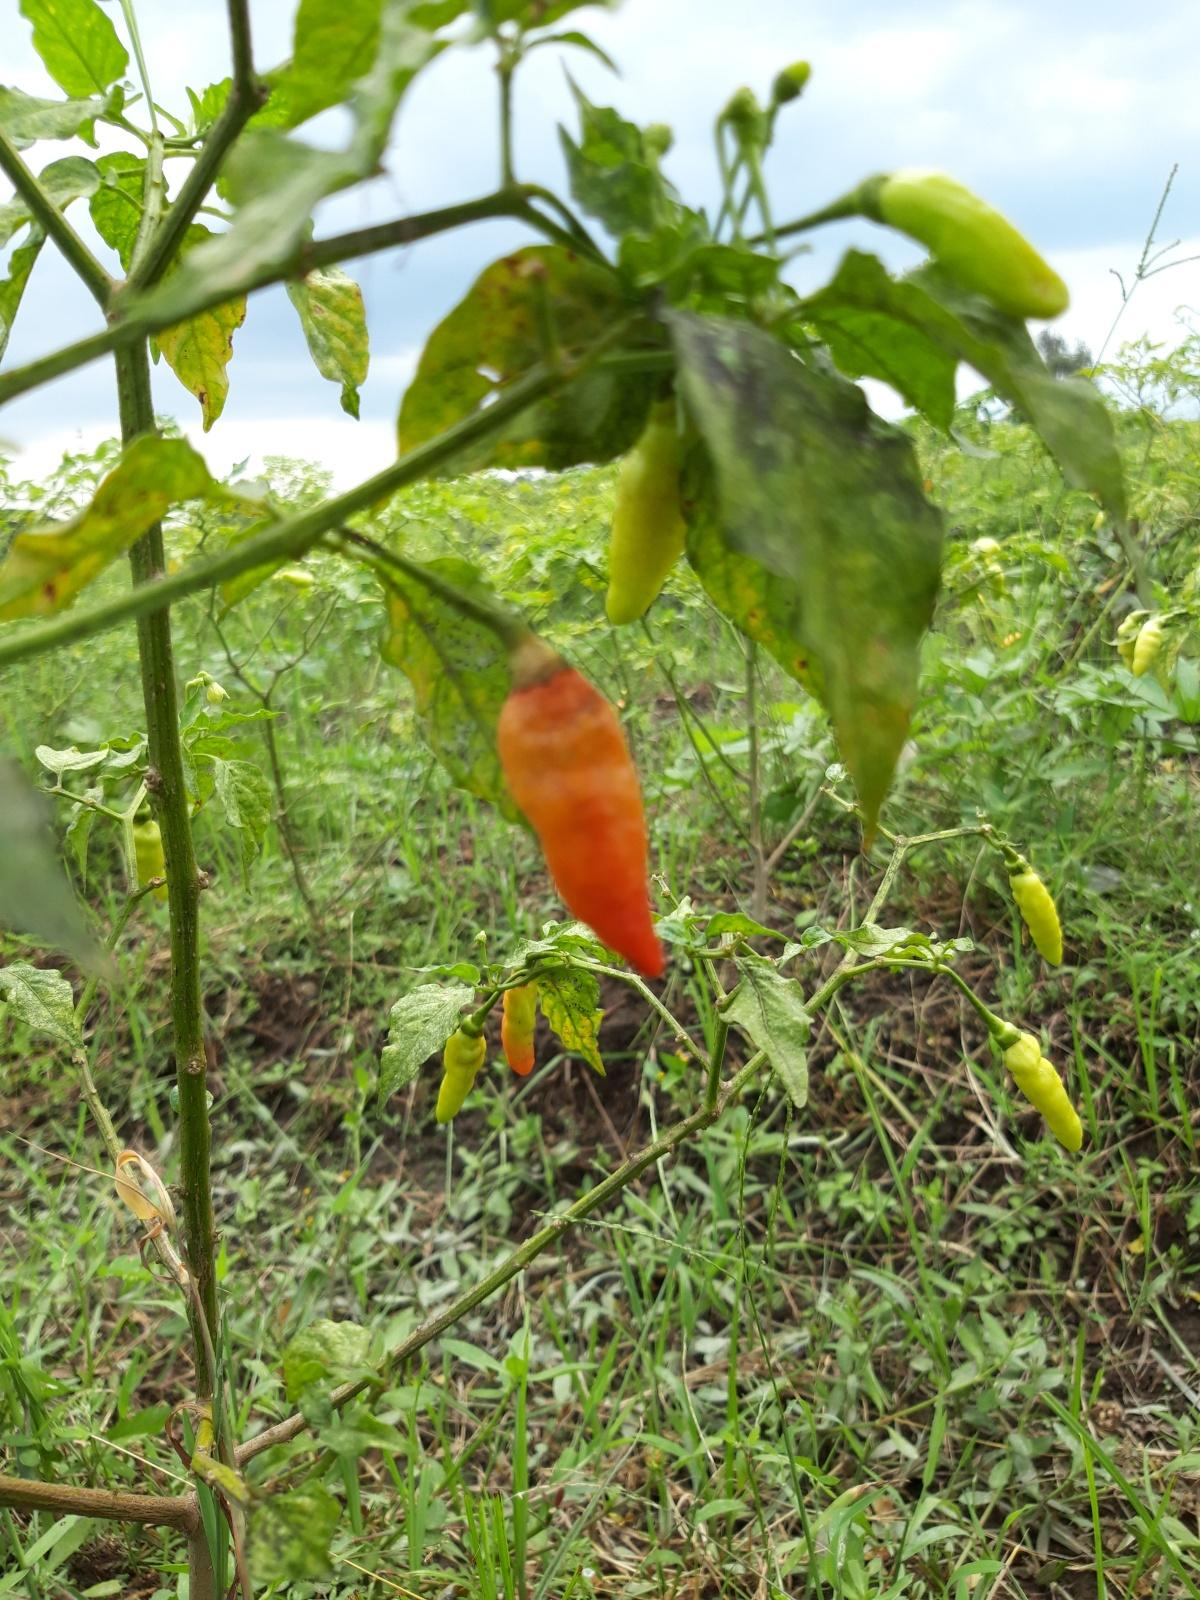cabai_normal: (495, 653, 671, 979), (865, 170, 1070, 324), (604, 423, 689, 627), (1001, 1031, 1087, 1155), (1007, 855, 1065, 970), (435, 1028, 488, 1126), (502, 980, 537, 1075), (132, 819, 166, 900), (1132, 621, 1161, 679), (1117, 616, 1136, 674)
